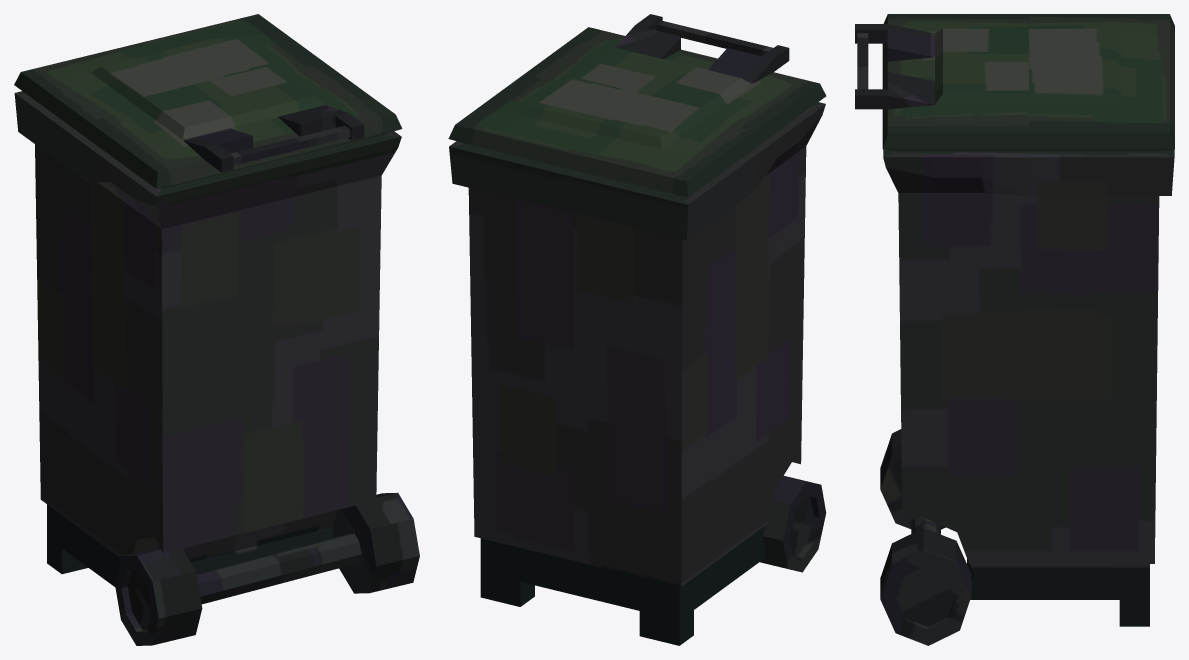
Rendered from poubelle2.fbx.
3 views of the same model, side by side, from view 1: azimuth 30°, elevation 25°; view 2: azimuth 150°, elevation 25°; view 3: azimuth 270°, elevation 25° (orthographic). The views are drawn at different scales.
Parts seen in each view (by area): view 1: Cube.013; view 2: Cube.013; view 3: Cube.013.
Part boxes in pixels (x1,y1,x2,y2): Cube.013: [14, 14, 419, 645]; Cube.013: [448, 14, 826, 645]; Cube.013: [855, 14, 1174, 645].
Size of the model in its own units: 88.28 by 161 by 90.28.
Materials: 1 (1 with a texture image).
